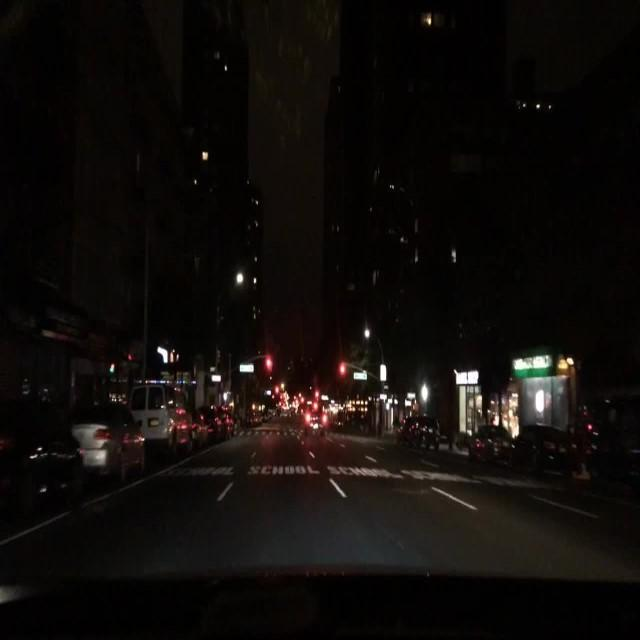normal: (12, 332, 640, 543)
